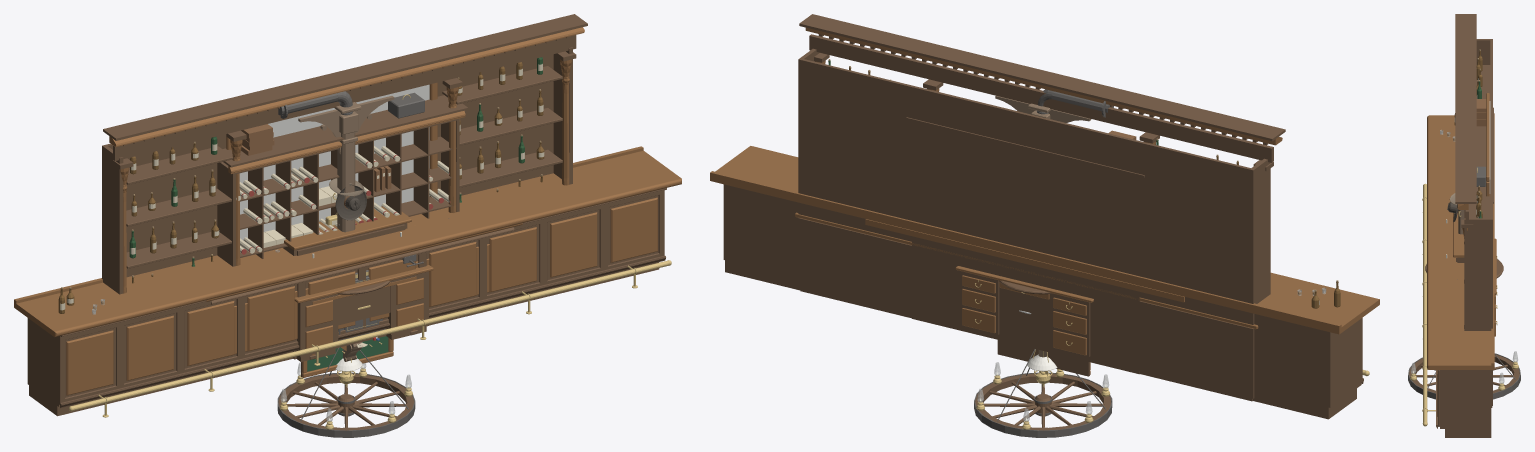
The model's file is town_furniture.glb.
3 renders of one model, left to right at view 1: azimuth 30°, elevation 25°; view 2: azimuth 150°, elevation 25°; view 3: azimuth 270°, elevation 25°, orthographic. The views are drawn at different scales.
Visible parts, largest first — view 1: Twn_Bar_geo, Twn_BackBar_geo, Twn_Pigeonholes_geo, Twn_Desk_geo, Twn_Chandelier_geo, Twn_Counter_geo, Twn_PorchPost_geo, Twn_Piano_geo, Twn_GunBoard_geo, Twn_HatRack_geo, Twn_Stove_geo; view 2: Twn_BackBar_geo, Twn_Pigeonholes_geo, Twn_Bar_geo, Twn_Chandelier_geo, Twn_Desk_geo, Twn_Counter_geo, Twn_GunBoard_geo, Twn_PorchPost_geo, Twn_Stove_geo; view 3: Twn_Bar_geo, Twn_BackBar_geo, Twn_Chandelier_geo, Twn_Pigeonholes_geo, Twn_Piano_geo, Twn_Desk_geo, Twn_HatRack_geo, Twn_PorchPost_geo, Twn_Table_geo.
Boxes of the visible parts, bbox=[...] form: Twn_Bar_geo: bbox=[14, 146, 681, 417]; Twn_BackBar_geo: bbox=[102, 14, 587, 294]; Twn_Pigeonholes_geo: bbox=[217, 92, 468, 266]; Twn_Desk_geo: bbox=[294, 265, 433, 361]; Twn_Chandelier_geo: bbox=[277, 347, 415, 437]; Twn_Counter_geo: bbox=[206, 218, 522, 362]; Twn_PorchPost_geo: bbox=[298, 96, 394, 232]; Twn_Piano_geo: bbox=[283, 206, 417, 359]; Twn_GunBoard_geo: bbox=[301, 336, 393, 377]; Twn_HatRack_geo: bbox=[329, 178, 366, 220]; Twn_Stove_geo: bbox=[278, 91, 352, 225]; Twn_BackBar_geo: bbox=[795, 14, 1285, 401]; Twn_Pigeonholes_geo: bbox=[906, 117, 1144, 374]; Twn_Bar_geo: bbox=[710, 146, 1379, 419]; Twn_Chandelier_geo: bbox=[974, 349, 1112, 437]; Twn_Desk_geo: bbox=[955, 266, 1093, 356]; Twn_Counter_geo: bbox=[865, 219, 1184, 302]; Twn_GunBoard_geo: bbox=[997, 340, 1090, 376]; Twn_PorchPost_geo: bbox=[995, 95, 1091, 122]; Twn_Stove_geo: bbox=[1019, 89, 1113, 314]; Twn_Bar_geo: bbox=[1422, 113, 1494, 437]; Twn_BackBar_geo: bbox=[1455, 14, 1492, 407]; Twn_Chandelier_geo: bbox=[1408, 351, 1520, 399]; Twn_Pigeonholes_geo: bbox=[1464, 99, 1493, 218]; Twn_Piano_geo: bbox=[1446, 211, 1464, 262]; Twn_Desk_geo: bbox=[1494, 238, 1497, 336]; Twn_HatRack_geo: bbox=[1447, 193, 1460, 221]; Twn_PorchPost_geo: bbox=[1458, 210, 1464, 234]; Twn_Table_geo: bbox=[1425, 259, 1503, 278].
Size of the model in its own units: 8.3 by 4.26 by 1.58.
